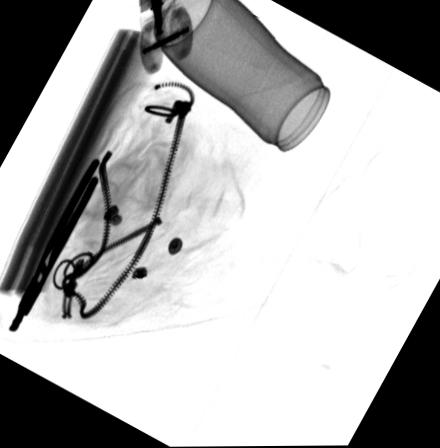Pliers: (18, 155, 102, 316)
